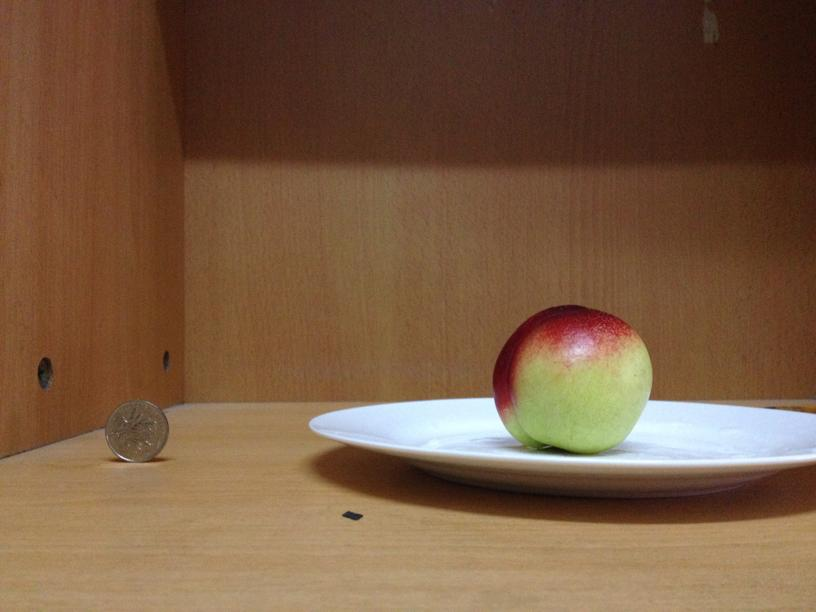coin: (97, 402, 173, 462)
peach: (489, 302, 652, 455)
